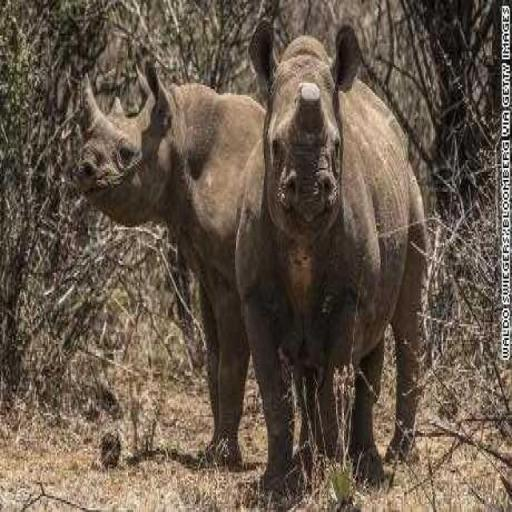Rhino: (234, 16, 431, 492), (73, 58, 275, 468)
